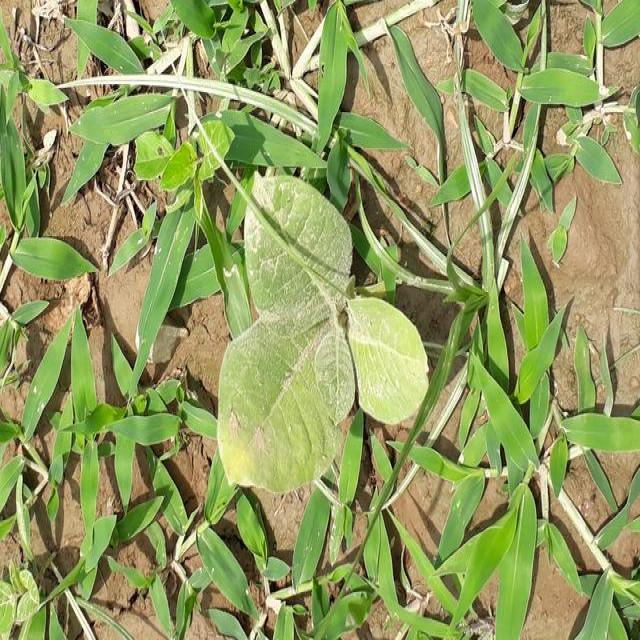crop: (216, 173, 431, 529)
